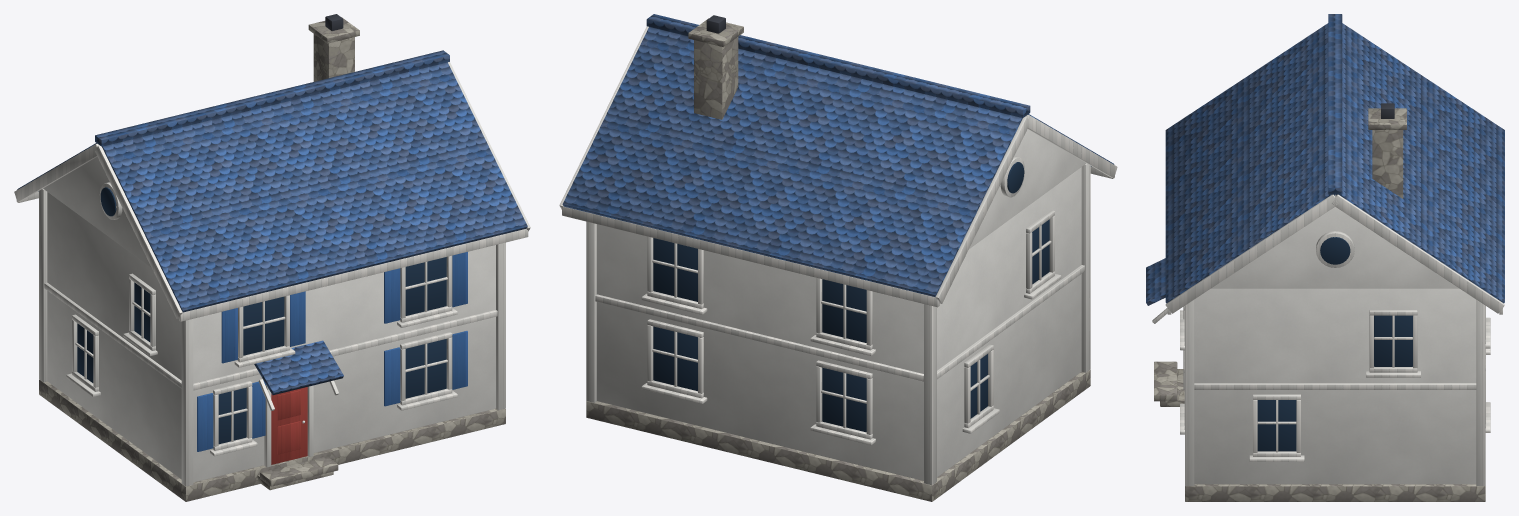
File: house_a.glb
The picture shows the model from 3 angles, left to right: view 1: azimuth 30°, elevation 25°; view 2: azimuth 150°, elevation 25°; view 3: azimuth 270°, elevation 25°; orthographic projection. The views are drawn at different scales.
Visible parts, largest first — view 1: house_a; view 2: house_a; view 3: house_a.
Part boxes in pixels (x1,y1,x2,y2): house_a: [14, 14, 530, 501]; house_a: [559, 14, 1117, 501]; house_a: [1146, 14, 1504, 501].
Size of the model in its own units: 10.68 by 10.22 by 9.24.
Materials: 9 (9 with a texture image).
